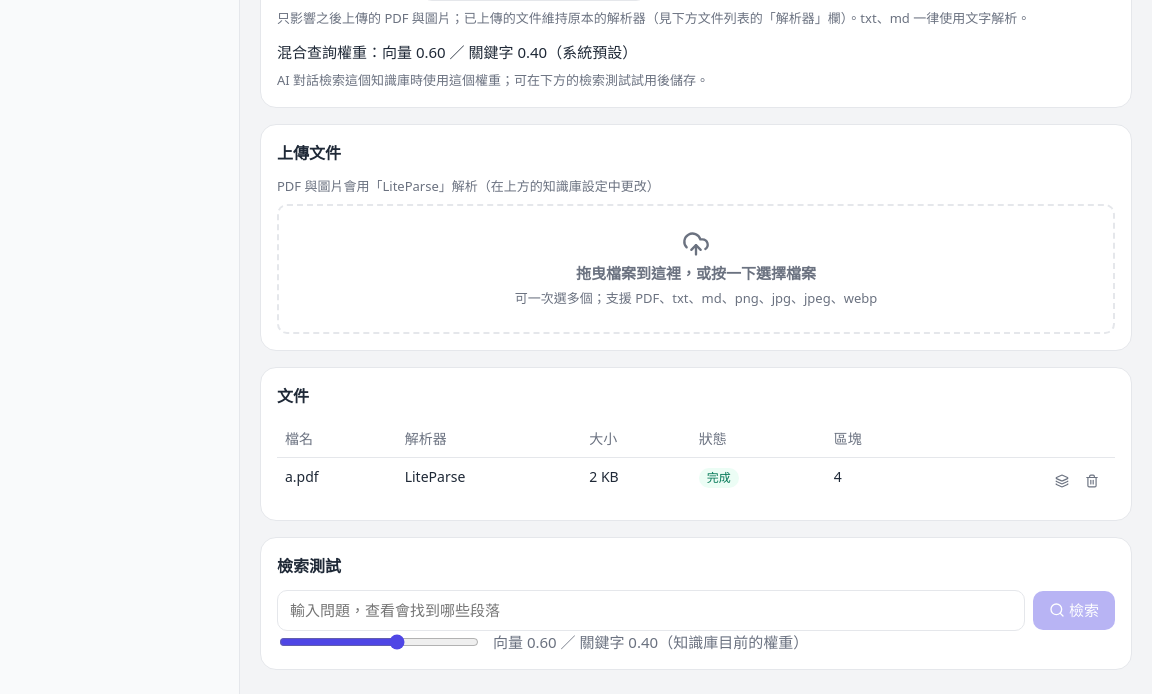
KbPage › tries other hybrid weights in the retrieval test
(page scrolled)
Check: the text "向量 0.60 ／ 關鍵字 0.40（知識庫目前的權重）" is shown, box [493, 630, 808, 653]
Step 1. Set the slider named "向量權重" to "0.3" → (342,642), box [279, 634, 479, 650]
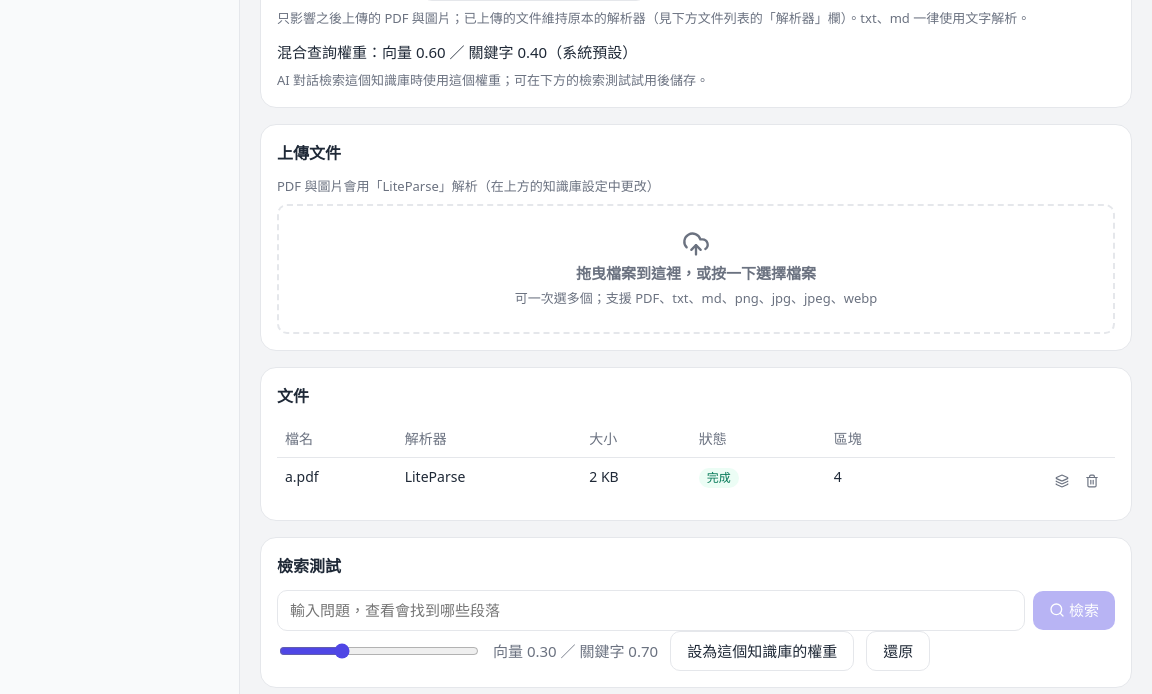
Check: the text "向量 0.30 ／ 關鍵字 0.70" is shown, box [493, 640, 658, 662]
Step 2. Type "q" into the field named "檢索問題" → (651,610), box [277, 590, 1025, 630]
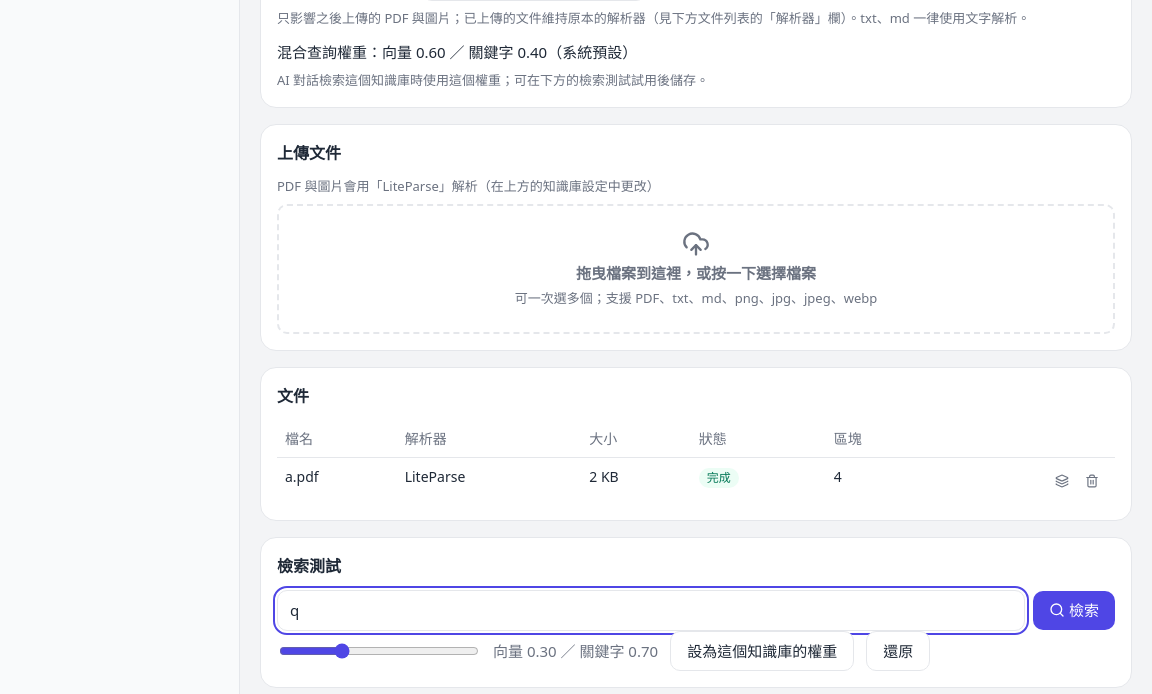
Step 3. Click the button "檢索" → (1074,610), box [1033, 591, 1115, 630]
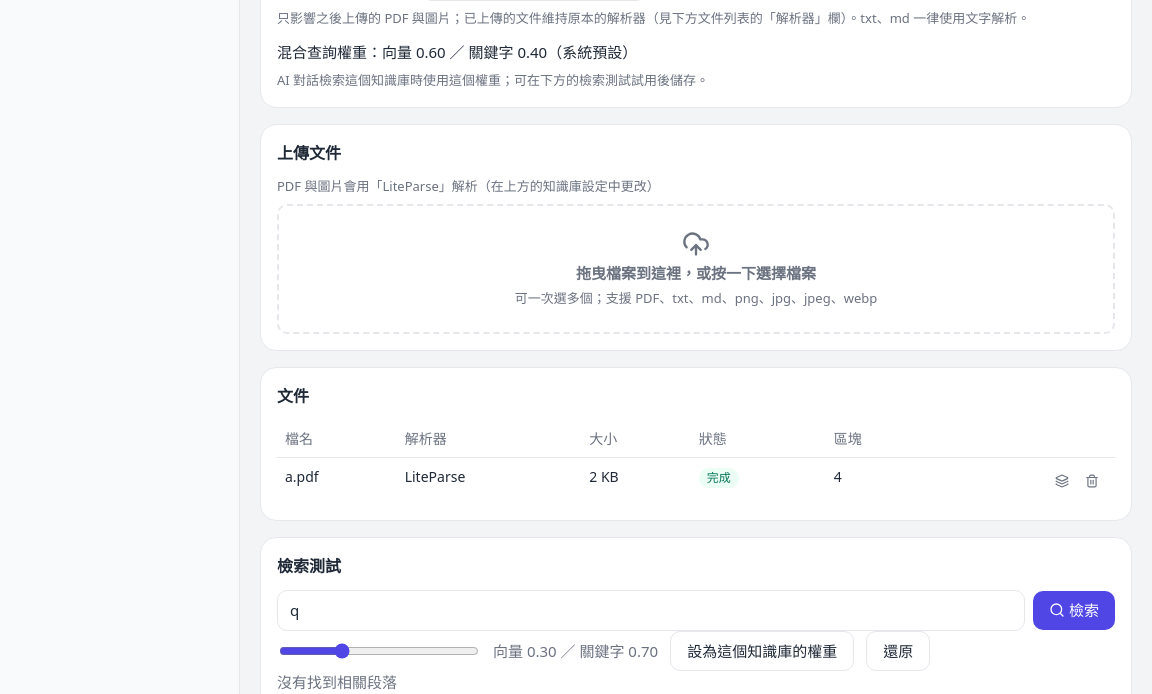
Check: the text "沒有找到相關段落" is shown, box [277, 672, 397, 692]
Step 4. Click the button "還原" → (898,651), box [866, 630, 930, 671]
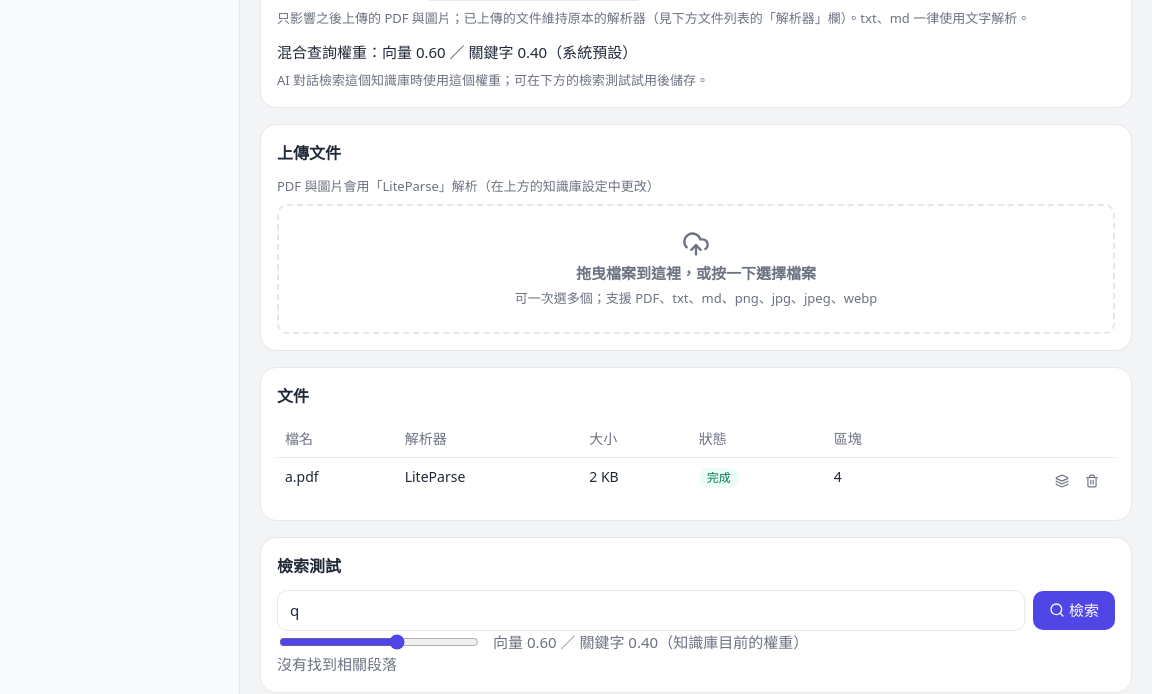
Check: the slider named "向量權重" holds "0.6", box [279, 634, 479, 650]
